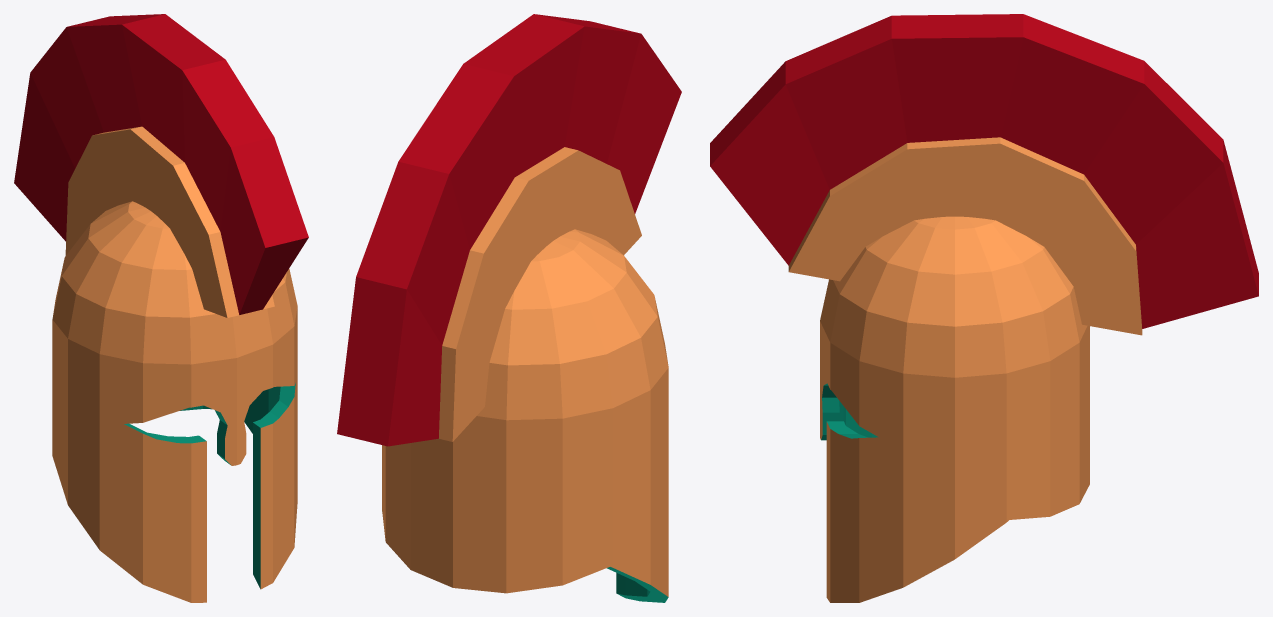
The model's file is SpaHelm2.fbx.
3 views of the same model, side by side, from view 1: azimuth 30°, elevation 25°; view 2: azimuth 150°, elevation 25°; view 3: azimuth 270°, elevation 25° (orthographic). The views are drawn at different scales.
Visible parts, largest first — view 1: Spartan Helmet; view 2: Spartan Helmet; view 3: Spartan Helmet.
Part boxes in pixels (box(x1,y1,x2,y2)): Spartan Helmet: box(14, 14, 308, 602); Spartan Helmet: box(337, 14, 681, 602); Spartan Helmet: box(710, 14, 1258, 602).
Bounding box in the file's own units: 200 × 456 × 407.
